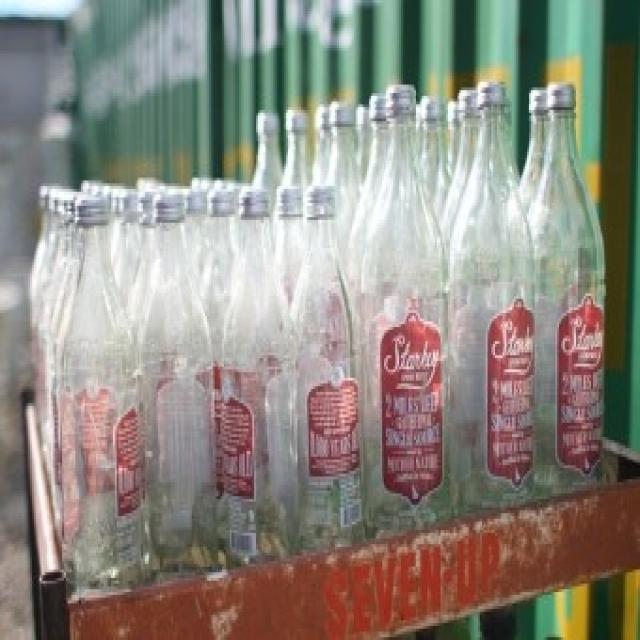glass: (53, 192, 148, 592), (286, 181, 370, 576)
